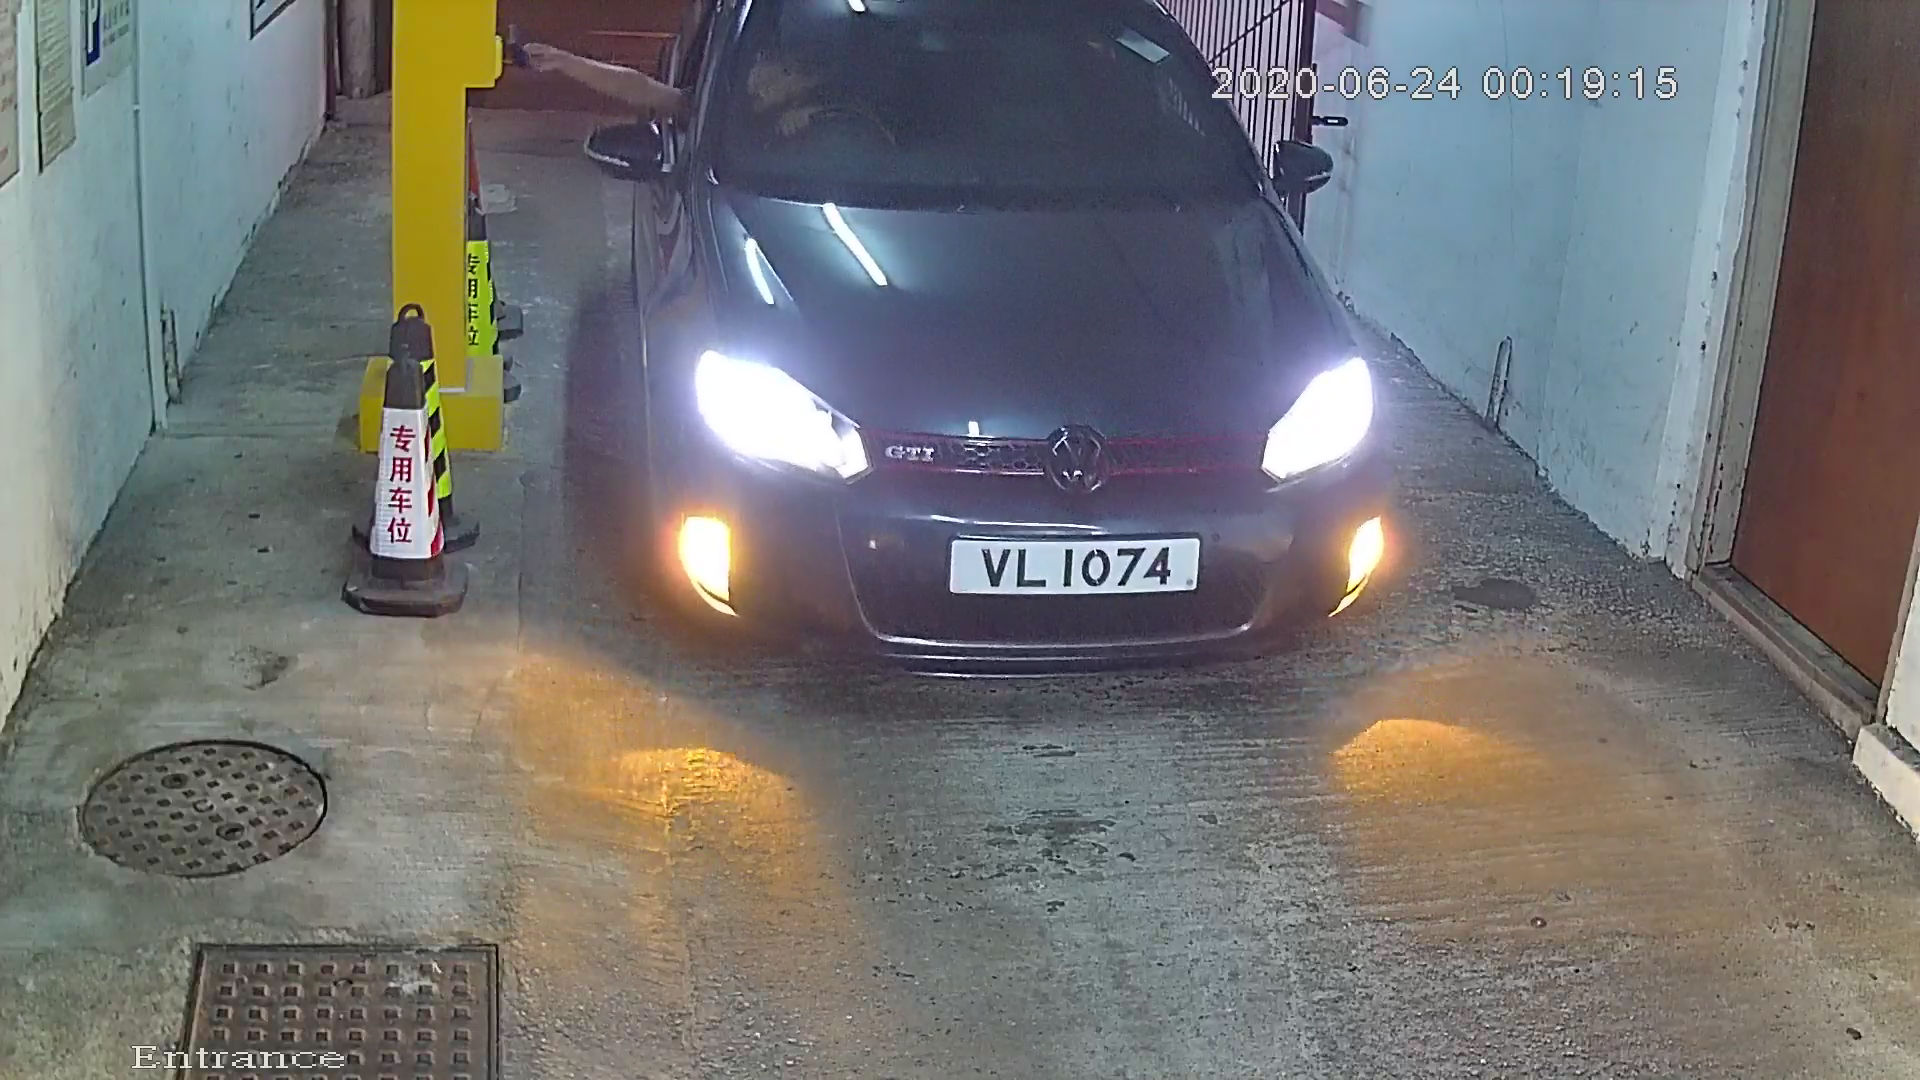privatecar: (570, 3, 1411, 688)
